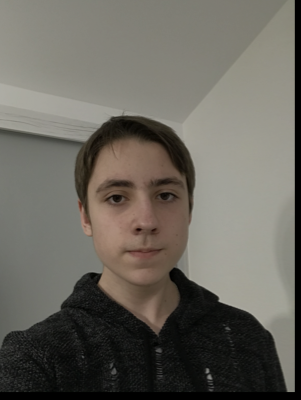without_mask: (88, 169, 188, 287)
